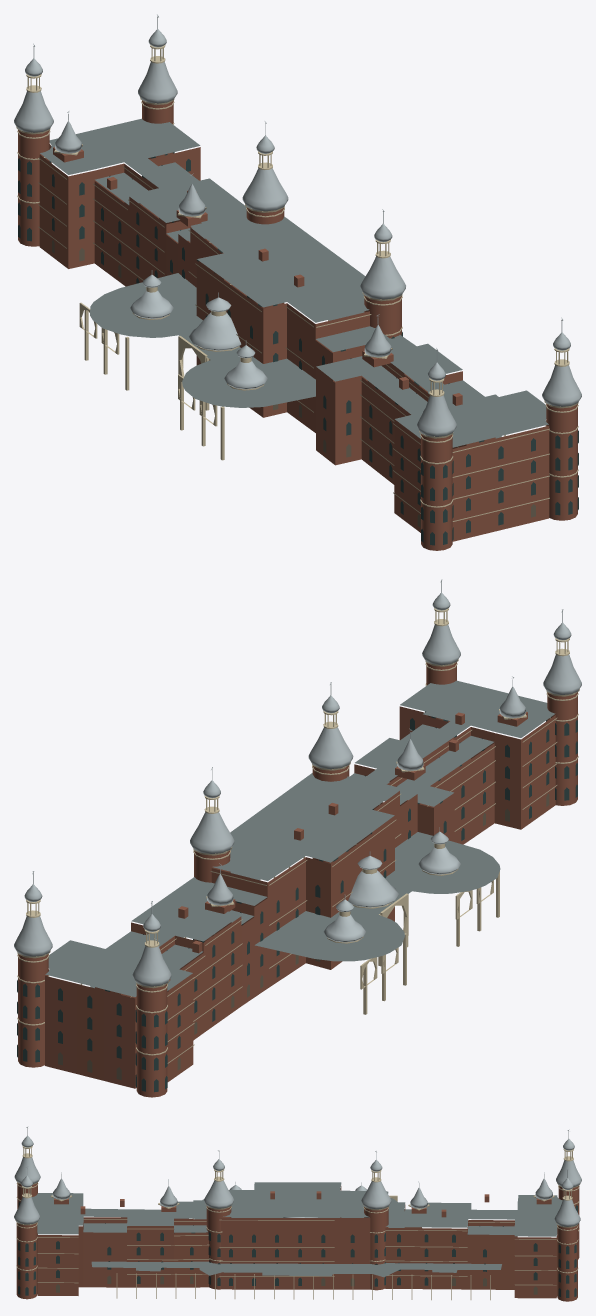
File: plant-hall-tampa-far.glb
The picture shows the model from 3 angles, top to bottom: view 1: azimuth 30°, elevation 25°; view 2: azimuth 150°, elevation 25°; view 3: azimuth 270°, elevation 25°; orthographic projection. The views are drawn at different scales.
Visible parts, largest first — view 1: plant-hall-tampa-0-brick, plant-hall-tampa-0-roof, plant-hall-tampa-0-silver, plant-hall-tampa-0-trim, plant-hall-tampa-0-glass; view 2: plant-hall-tampa-0-brick, plant-hall-tampa-0-roof, plant-hall-tampa-0-silver, plant-hall-tampa-0-trim, plant-hall-tampa-0-glass; view 3: plant-hall-tampa-0-brick, plant-hall-tampa-0-roof, plant-hall-tampa-0-silver, plant-hall-tampa-0-trim, plant-hall-tampa-0-glass, plant-hall-tampa-0-glow.
Boxes of the visible parts, x1,y1,x2,y2 form: plant-hall-tampa-0-brick: [18, 100, 577, 550]; plant-hall-tampa-0-roof: [40, 118, 548, 447]; plant-hall-tampa-0-silver: [14, 14, 581, 436]; plant-hall-tampa-0-trim: [16, 45, 578, 521]; plant-hall-tampa-0-glass: [18, 152, 578, 545]; plant-hall-tampa-0-brick: [18, 662, 577, 1097]; plant-hall-tampa-0-roof: [45, 680, 555, 996]; plant-hall-tampa-0-silver: [14, 579, 581, 986]; plant-hall-tampa-0-trim: [17, 608, 579, 1063]; plant-hall-tampa-0-glass: [17, 711, 577, 1092]; plant-hall-tampa-0-brick: [16, 1183, 579, 1301]; plant-hall-tampa-0-roof: [31, 1182, 562, 1277]; plant-hall-tampa-0-silver: [14, 1127, 581, 1226]; plant-hall-tampa-0-trim: [15, 1146, 580, 1300]; plant-hall-tampa-0-glass: [18, 1202, 577, 1297]; plant-hall-tampa-0-glow: [56, 1275, 537, 1294].
Bounding box in the file's own units: 50.41 × 41.6 × 159.
